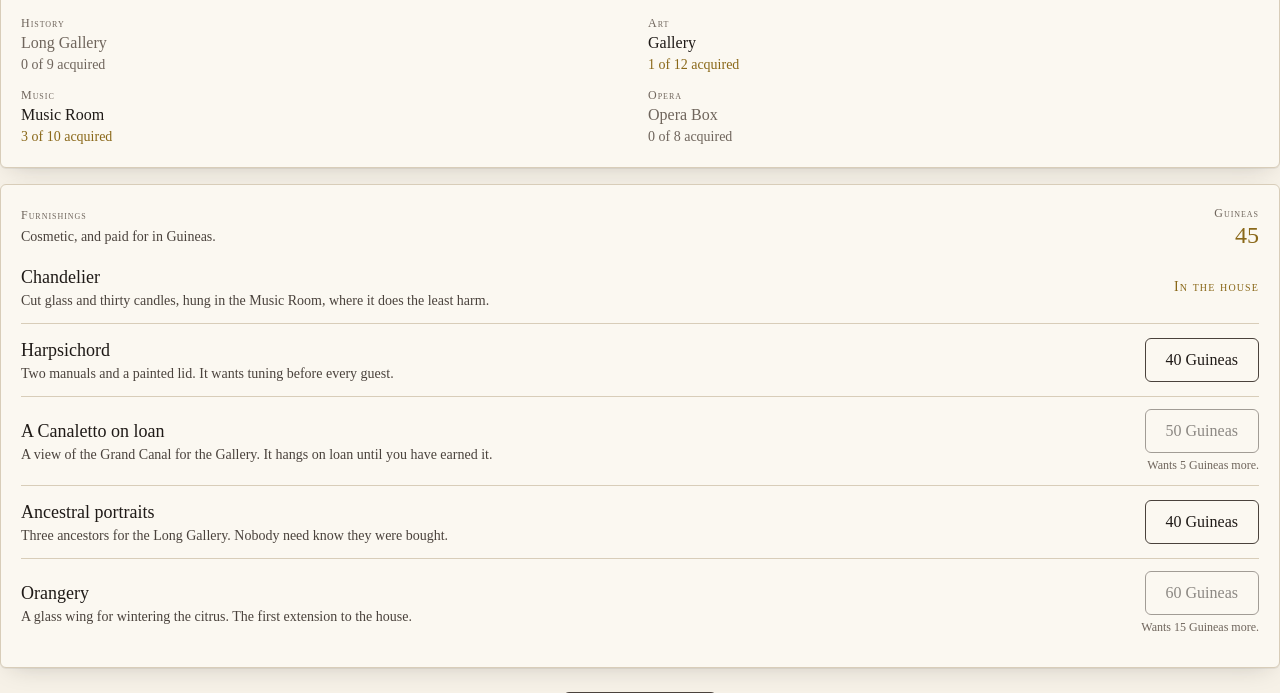
Test: EstateScreen › draws owned furnishings, prices the rest, and buys one with Guineas
This screenshot has width=1280, height=693.
(page scrolled)
Expected: the text "In the house" is shown, [1174,279,1259,294]
Expected: the element with test id "estate-guineas" shows "45", [1235,222,1259,248]
Click the button with test id "buy-harpsichord": (1202, 360) [1145,338,1259,382]
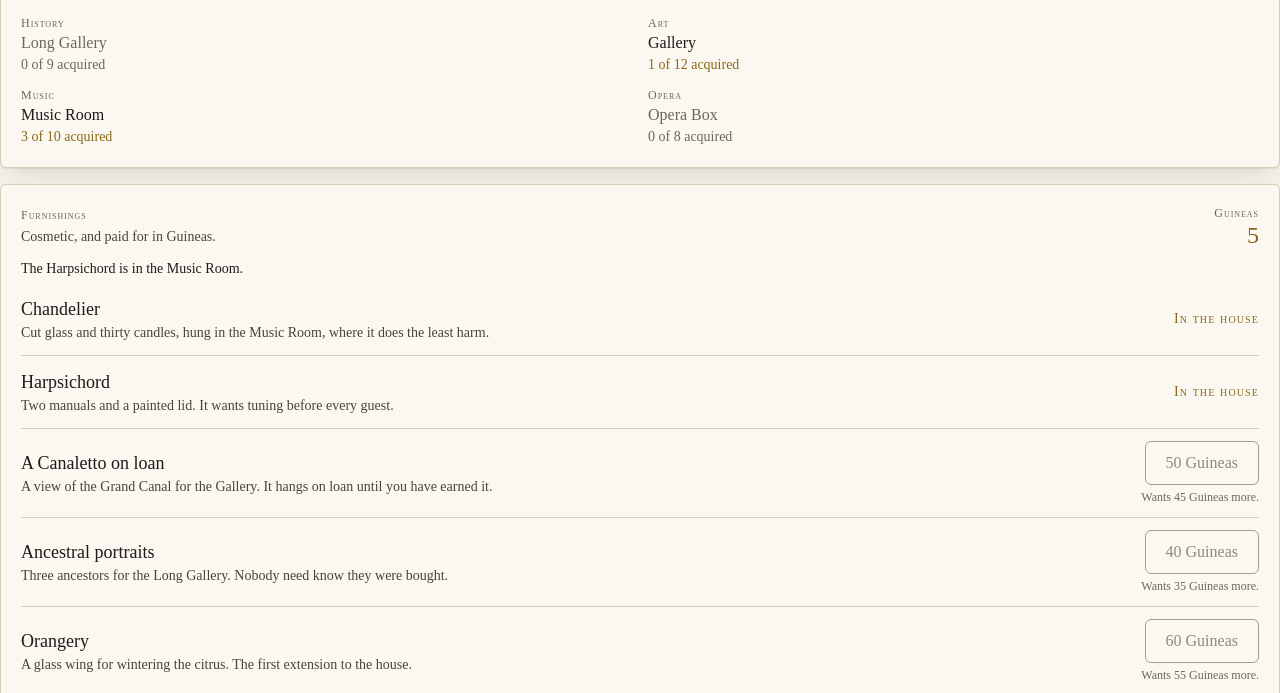
Expected: the element with test id "estate-guineas" shows "5", [1247,222,1259,248]
Now the text with test id "owned-harpsichord" is shown, box [1174,384,1259,399]
Now the message with test id "estate-notice" reads "The Harpsichord is in the Music Room.", box [21,261,243,276]
